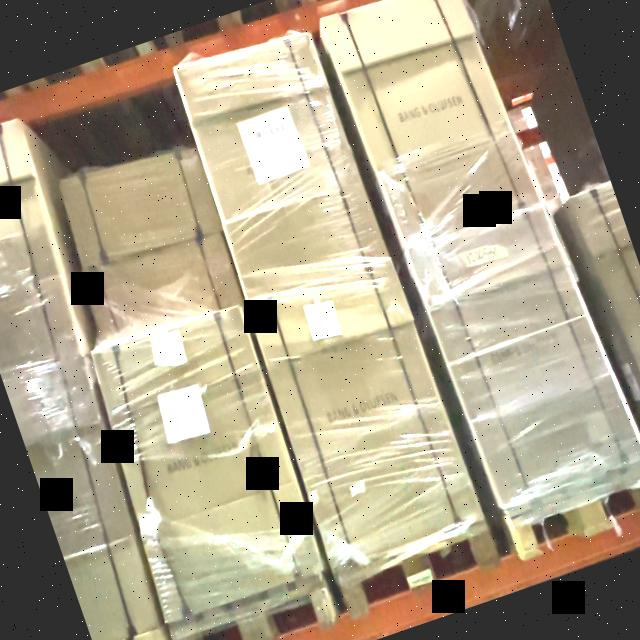box: (90, 314, 337, 632), (246, 260, 482, 570), (407, 207, 640, 516), (176, 25, 382, 307), (316, 0, 536, 256), (3, 356, 175, 640), (0, 121, 94, 374), (56, 126, 217, 266)
